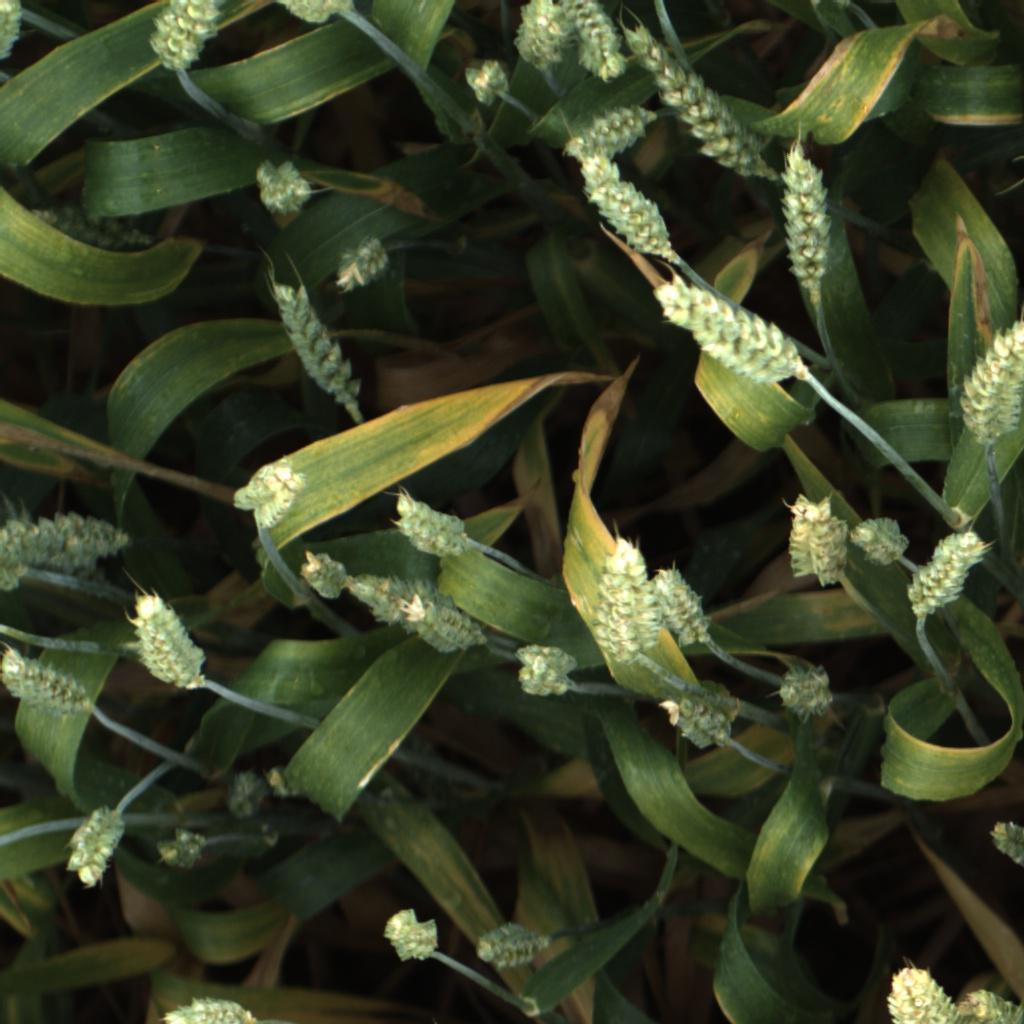0-0: (629, 16, 777, 191), (646, 271, 814, 388), (266, 281, 365, 411), (573, 153, 685, 257), (769, 133, 836, 290), (121, 589, 216, 692), (588, 531, 661, 663), (953, 316, 1024, 444), (772, 484, 857, 590), (382, 479, 476, 567), (1, 508, 133, 570), (902, 525, 988, 617), (0, 644, 93, 722), (141, 0, 225, 78), (556, 98, 653, 164), (383, 724, 455, 810), (875, 957, 967, 1024), (24, 202, 135, 256), (229, 456, 307, 530), (397, 599, 489, 661), (645, 564, 709, 652), (563, 0, 630, 81), (654, 692, 739, 755), (65, 802, 123, 893), (341, 571, 434, 626), (769, 658, 836, 729), (467, 917, 548, 975), (379, 905, 448, 969), (330, 234, 399, 297), (158, 983, 264, 1024), (843, 508, 914, 568), (512, 640, 579, 702), (515, 0, 567, 70), (252, 157, 312, 215), (459, 52, 513, 113), (151, 824, 213, 877), (44, 555, 112, 601), (297, 547, 349, 602), (272, 0, 361, 32), (222, 767, 270, 821), (984, 815, 1024, 873), (0, 0, 27, 64), (262, 759, 302, 799), (1, 554, 29, 594)
